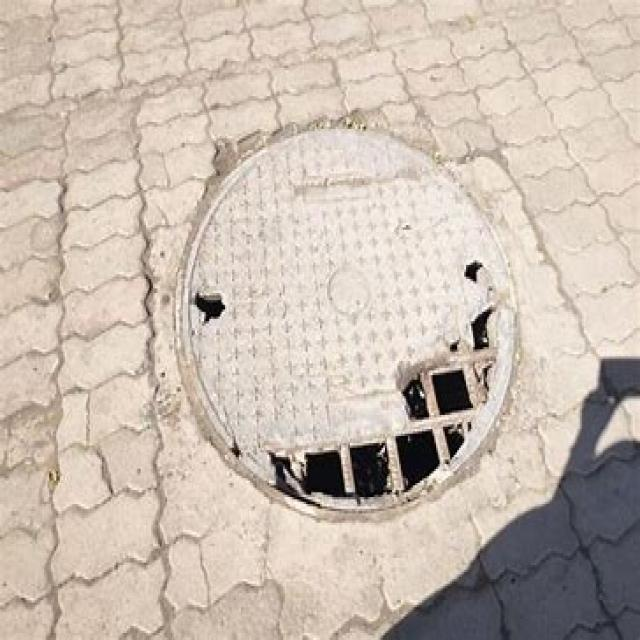manhole: (178, 131, 518, 521)
